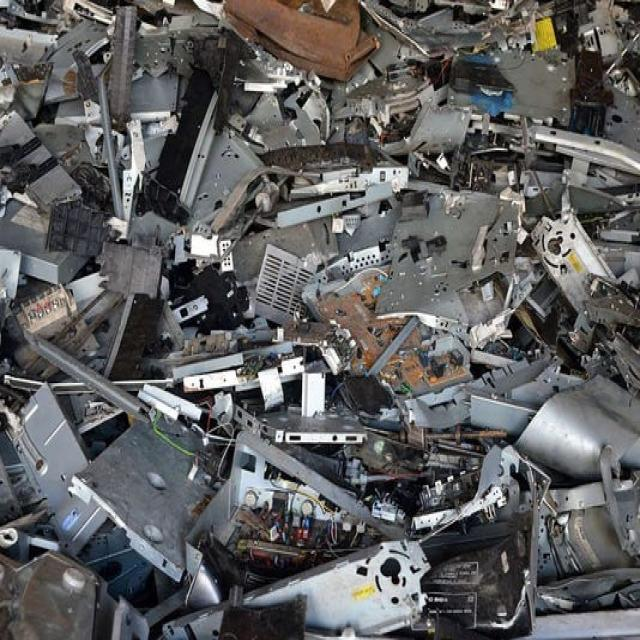hazard: (0, 4, 638, 640)
